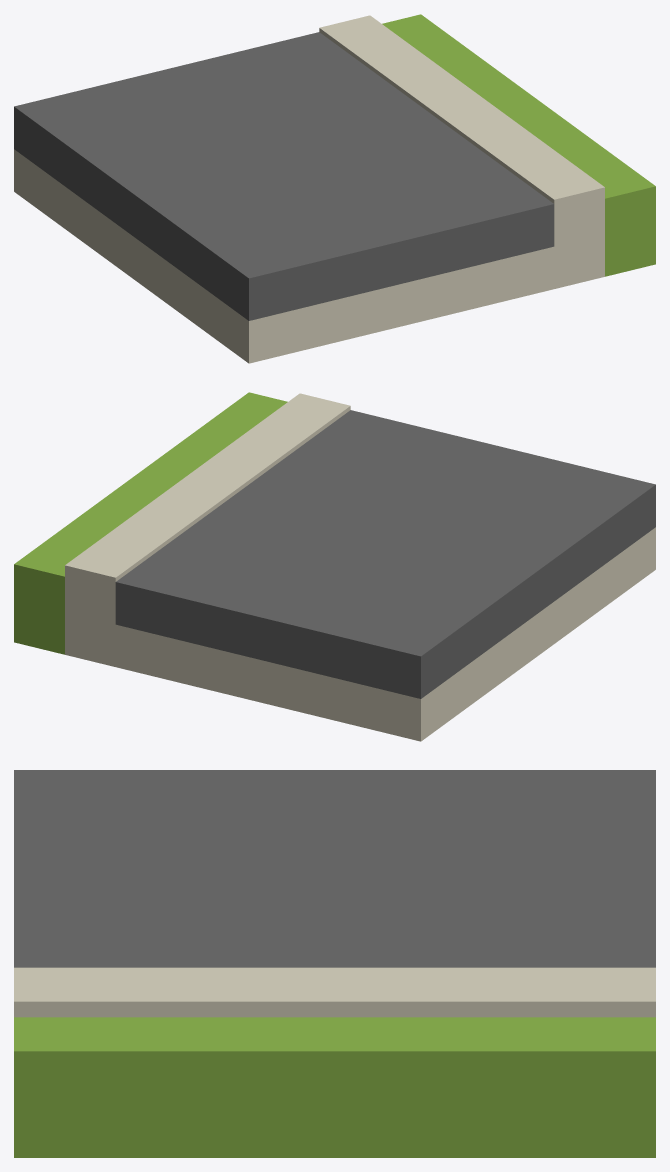
File: tile016.fbx
The picture shows the model from 3 angles, top to bottom: view 1: azimuth 30°, elevation 25°; view 2: azimuth 150°, elevation 25°; view 3: azimuth 270°, elevation 25°; orthographic projection. The views are drawn at different scales.
Parts seen in each view (by area): view 1: tile016; view 2: tile016; view 3: tile016.
Boxes of the visible parts, left/top/right/bottom form: tile016: left=14, top=14, right=655, bottom=363; tile016: left=14, top=392, right=655, bottom=741; tile016: left=14, top=770, right=655, bottom=1157.
Size of the model in its own units: 10 by 2.1 by 10.
